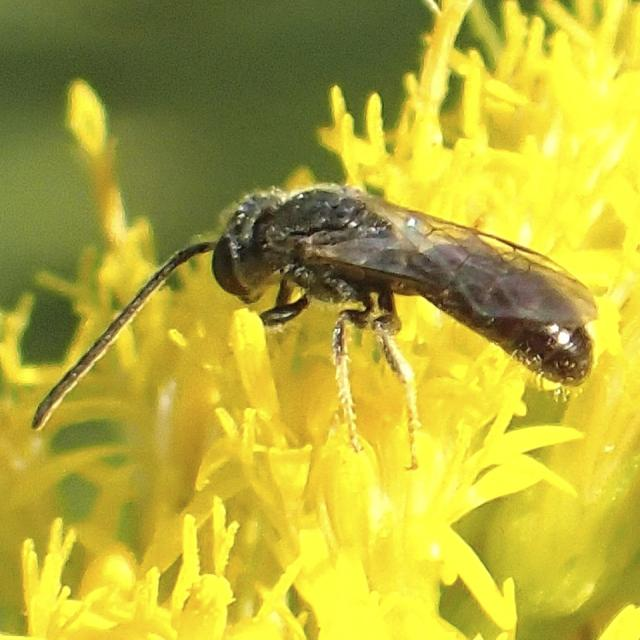Lasioglossum: (28, 158, 604, 506)
